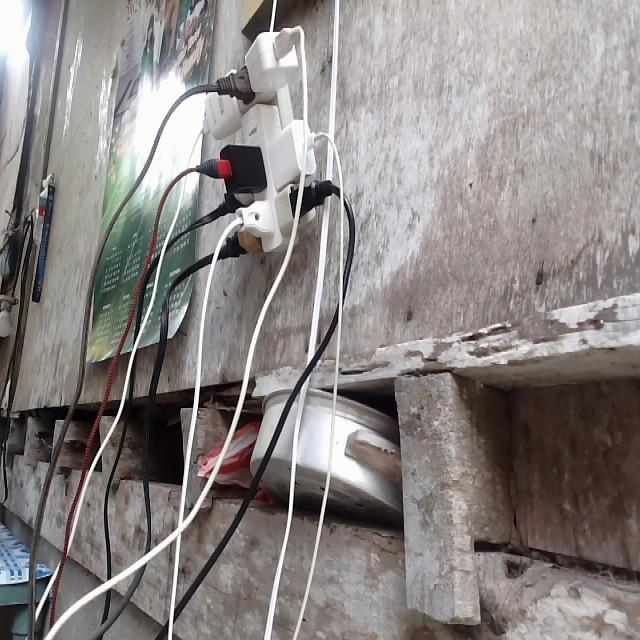-: (200, 23, 333, 256)
